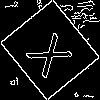X: (25, 24, 82, 80)
